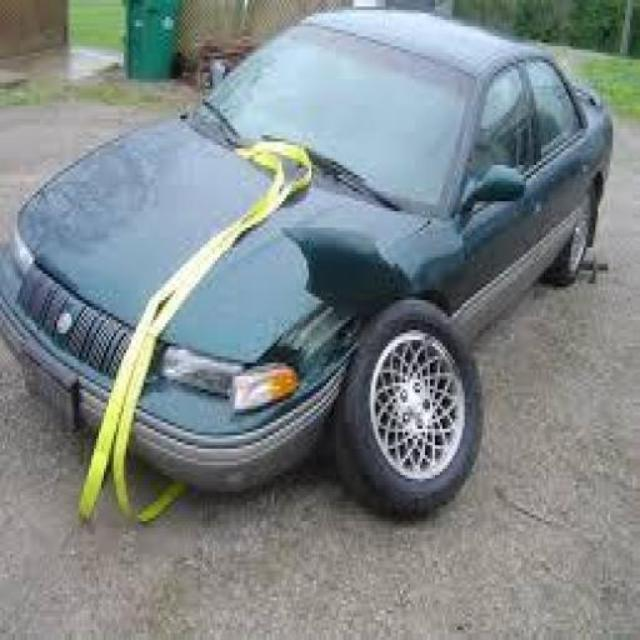dent: (209, 219, 453, 470)
